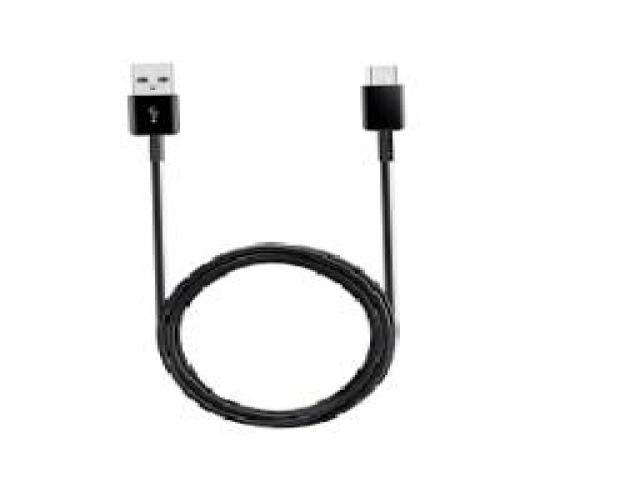wire: (129, 64, 404, 427)
